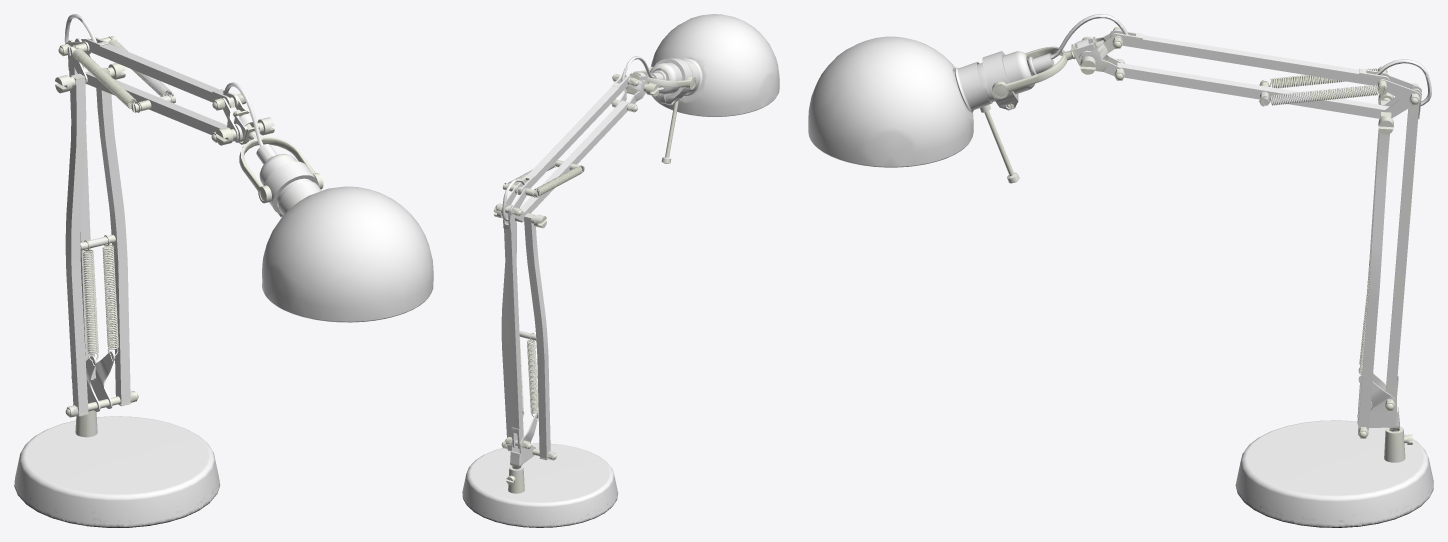
File: forsa_lampa_biurkowa_30439117.glb
The picture shows the model from 3 angles, left to right: view 1: azimuth 30°, elevation 25°; view 2: azimuth 150°, elevation 25°; view 3: azimuth 270°, elevation 25°; orthographic projection. The views are drawn at different scales.
Visible parts, largest first — view 1: forsa_lampa_biurkowa_30439117; view 2: forsa_lampa_biurkowa_30439117; view 3: forsa_lampa_biurkowa_30439117.
Boxes of the visible parts, <box> form: forsa_lampa_biurkowa_30439117: <box>14,14,433,527</box>; forsa_lampa_biurkowa_30439117: <box>462,14,779,527</box>; forsa_lampa_biurkowa_30439117: <box>808,14,1433,527</box>.
Size of the model in its own units: 0.1518 by 0.3982 by 0.4785.
Materials: 1 (1 with a texture image).
